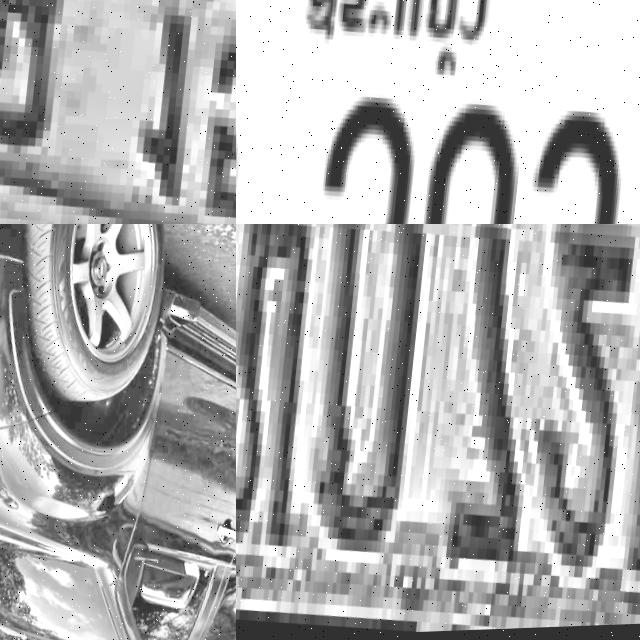license-plate: (236, 224, 640, 640), (236, 0, 640, 224), (0, 0, 236, 224)
